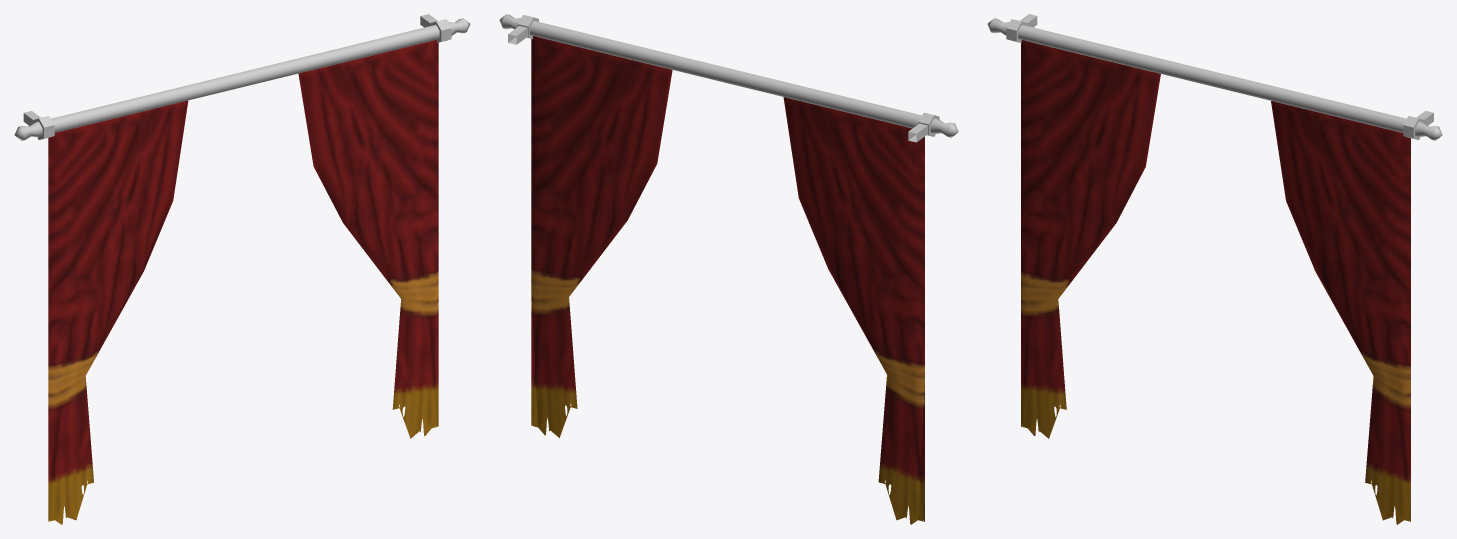
File: Curtain_2A.fbx
The picture shows the model from 3 angles, left to right: view 1: azimuth 30°, elevation 25°; view 2: azimuth 150°, elevation 25°; view 3: azimuth 330°, elevation 25°; orthographic projection.
Parts seen in each view (by area): view 1: Alpha, polySurface7409; view 2: Alpha, polySurface7409; view 3: Alpha, polySurface7409.
Boxes of the visible parts, x1,y1,x2,y2 form: Alpha: [48, 40, 438, 524]; polySurface7409: [14, 14, 470, 140]; Alpha: [531, 36, 924, 524]; polySurface7409: [499, 14, 958, 142]; Alpha: [1021, 40, 1410, 524]; polySurface7409: [987, 14, 1442, 140].
Bounding box in the file's own units: 4.36 × 3.77 × 0.359.
